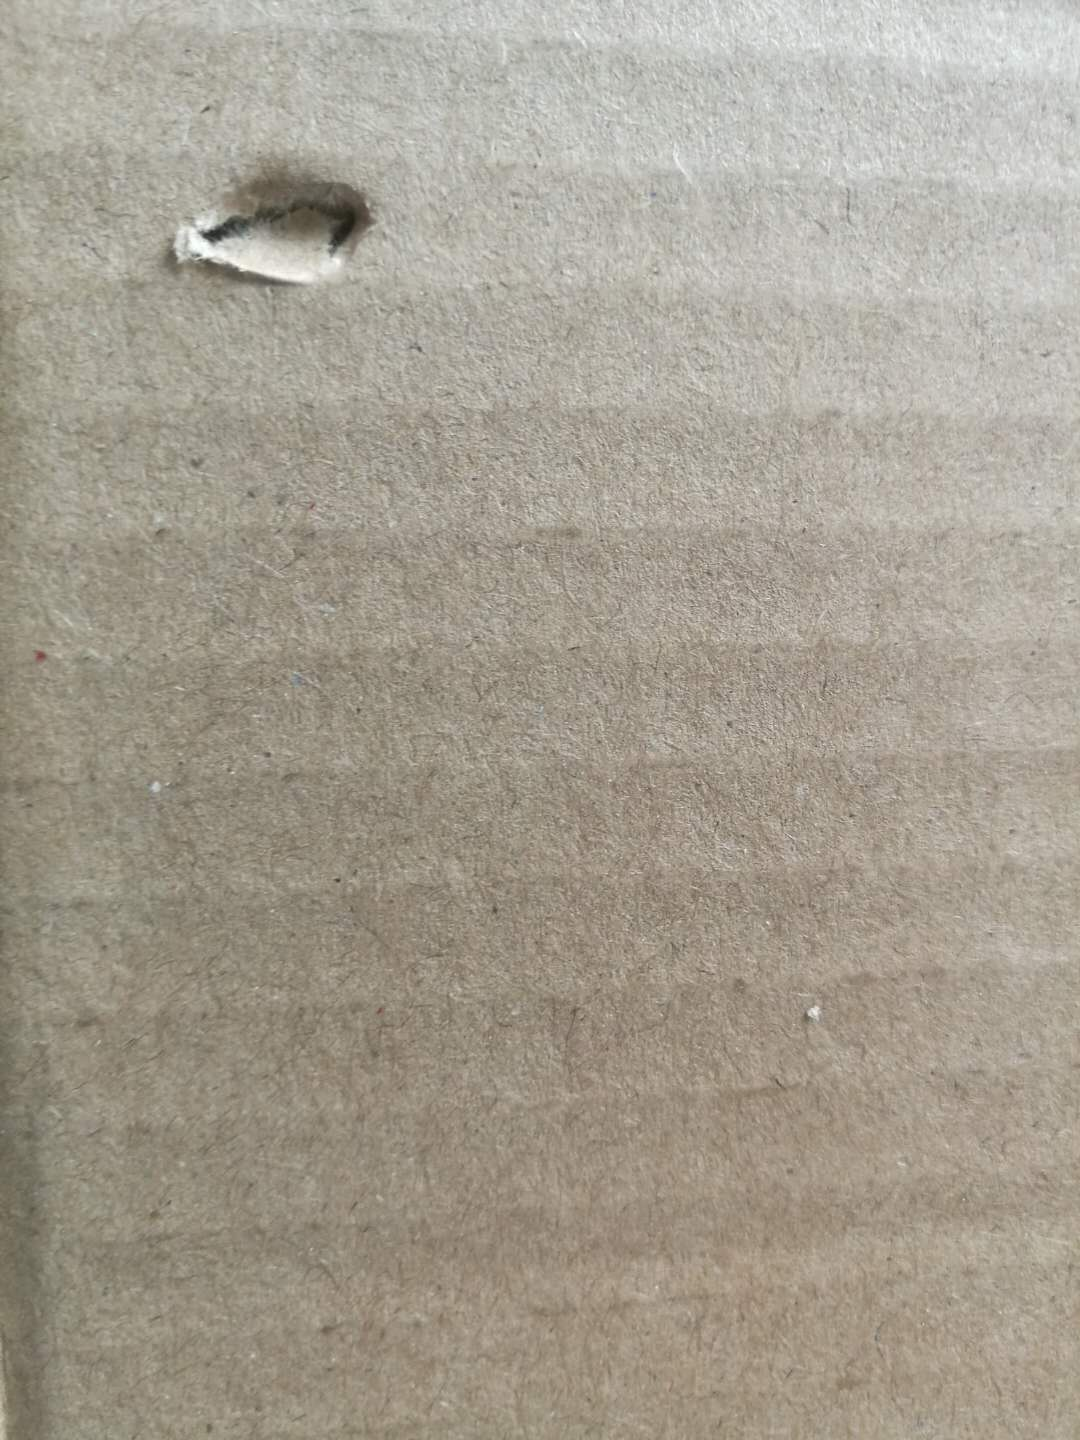defect: (140, 133, 412, 305)
